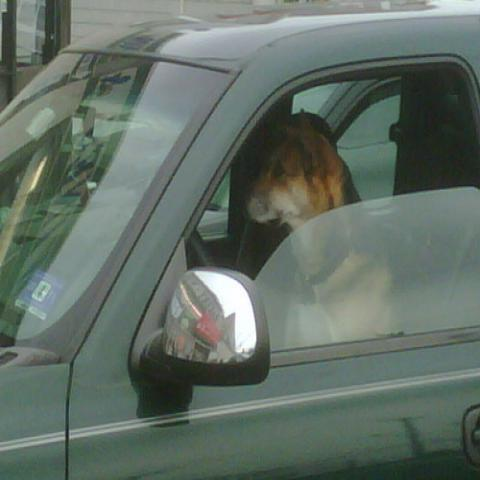car: (2, 10, 479, 474)
